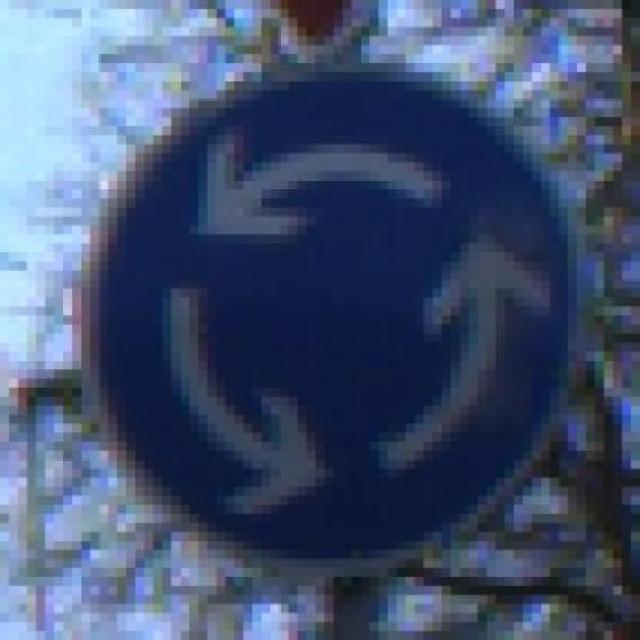Round-About: (72, 54, 603, 595)
